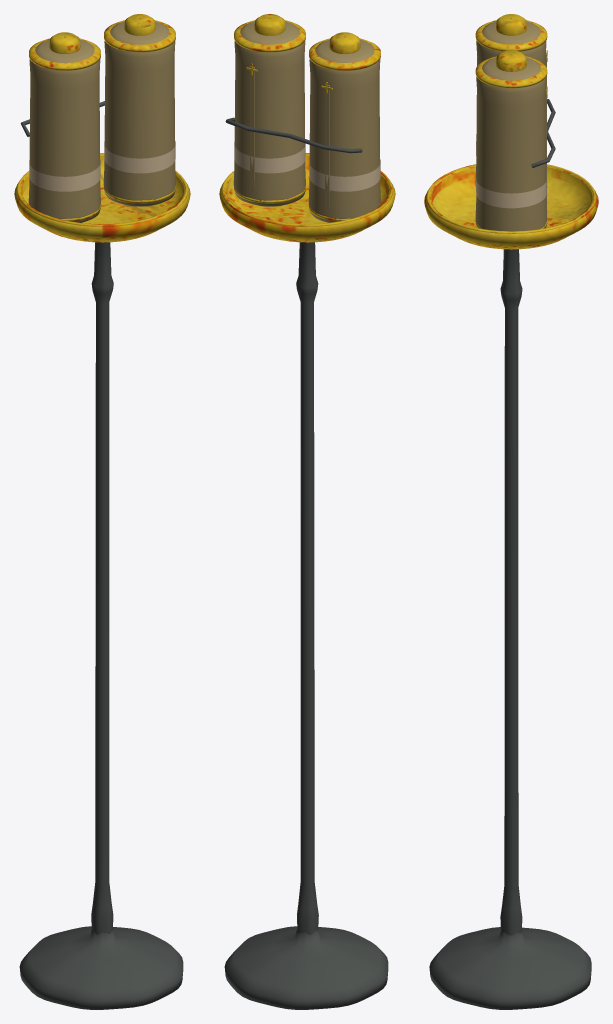
The model's file is battery-supply.fbx.
The picture shows the model from 3 angles, left to right: view 1: azimuth 30°, elevation 25°; view 2: azimuth 150°, elevation 25°; view 3: azimuth 270°, elevation 25°; orthographic projection.
Parts seen in each view (by area): view 1: battery-supply; view 2: battery-supply; view 3: battery-supply.
Part boxes in pixels (left/top/right/bottom): battery-supply: left=14, top=14, right=190, bottom=1009; battery-supply: left=219, top=14, right=395, bottom=1009; battery-supply: left=424, top=14, right=598, bottom=1009.
Bounding box in the file's own units: 22.4 × 133 × 22.4.
